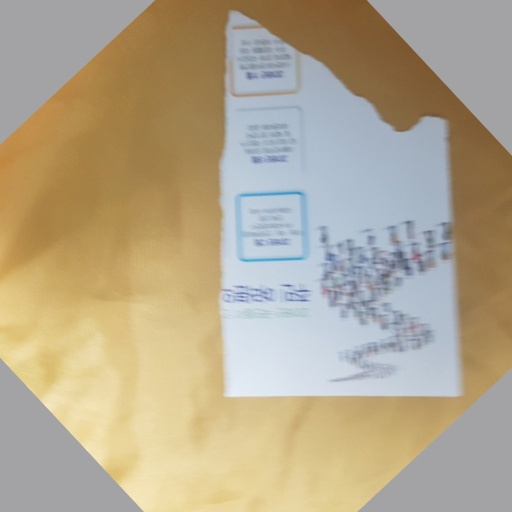Paper_2: (209, 135, 479, 451)
